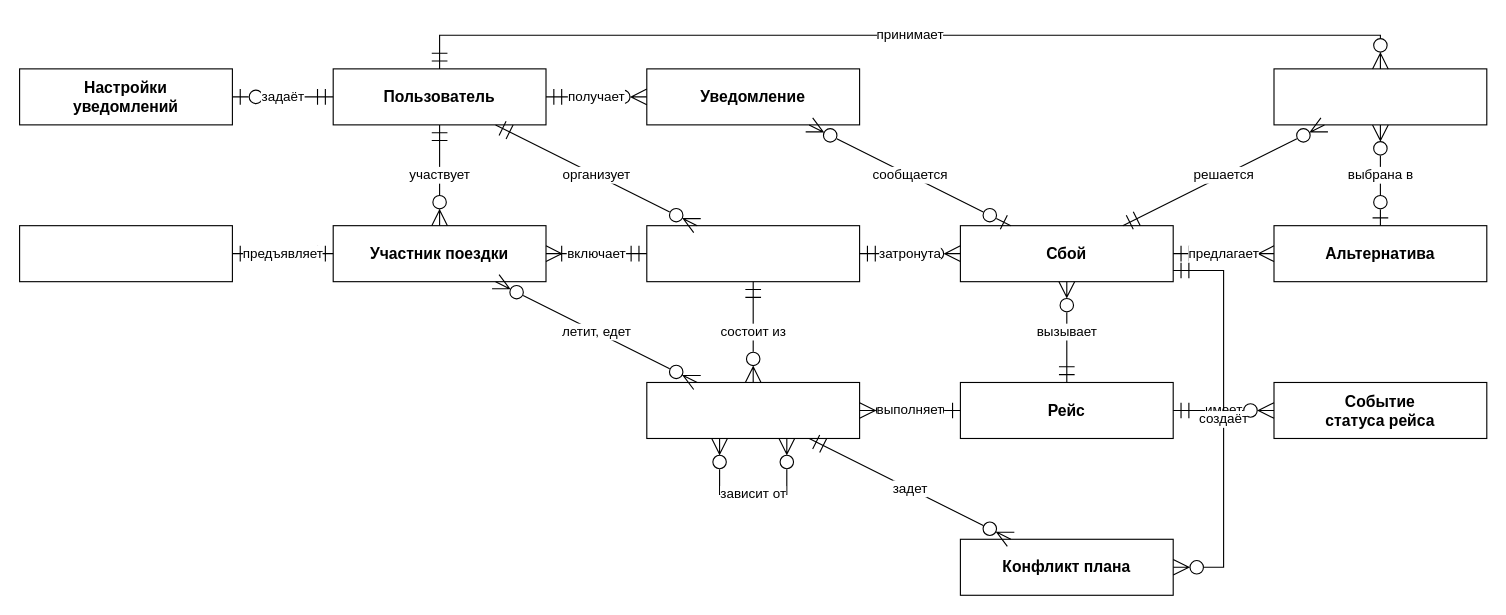
Some shapes in this 1506 by 615 pixel diagram are drawn without their labels. Here are the shapes that lost their labels. From the top down, the box of each, then its label:
(1273, 68, 1487, 125): Решение
(18, 225, 232, 282): Документ путешественника
(646, 225, 860, 282): Поездка
(646, 381, 860, 438): Сегмент
